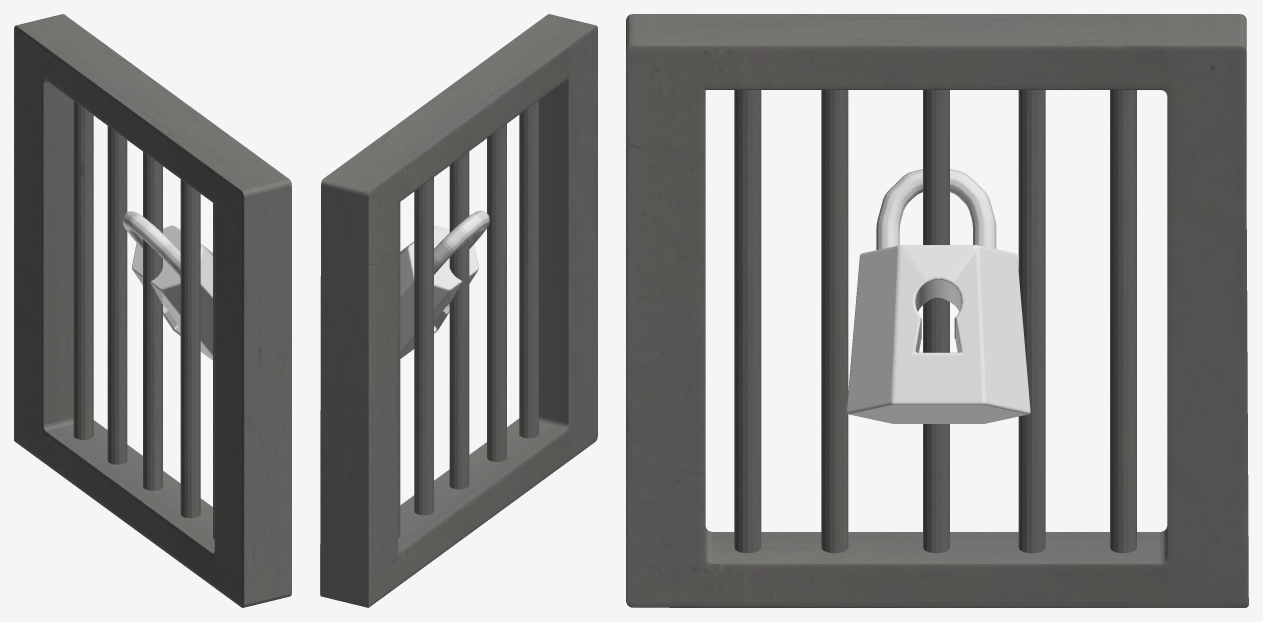
File: keyButtonGate.fbx
The picture shows the model from 3 angles, left to right: view 1: azimuth 30°, elevation 25°; view 2: azimuth 150°, elevation 25°; view 3: azimuth 270°, elevation 25°; orthographic projection. The views are drawn at different scales.
Visible parts, largest first — view 1: Cube, Cylinder, Torus; view 2: Cube, Cylinder, Torus; view 3: Cube, Cylinder, Torus.
Boxes of the visible parts, <box> form: Cube: <box>14,14,291,607</box>; Cylinder: <box>131,225,212,360</box>; Torus: <box>122,211,180,277</box>; Cube: <box>320,14,597,607</box>; Cylinder: <box>400,226,478,358</box>; Torus: <box>434,210,489,274</box>; Cube: <box>626,14,1248,607</box>; Cylinder: <box>846,245,1030,423</box>; Torus: <box>876,169,996,249</box>.
Bounding box in the file's own units: 249 × 783 × 786.
